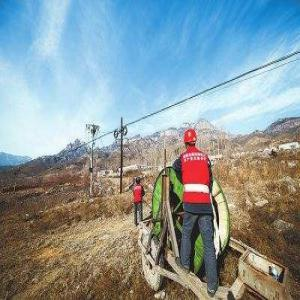red: (183, 126, 199, 153)
